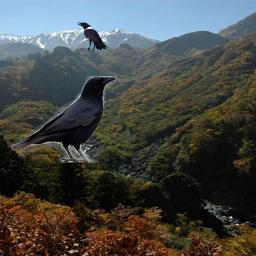Crow: (11, 76, 117, 163), (77, 22, 108, 51)
